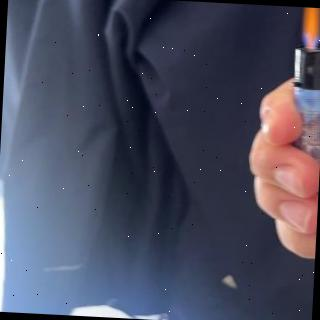fire: (299, 7, 320, 54)
